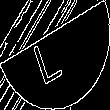L_NW: (36, 25, 74, 85)
